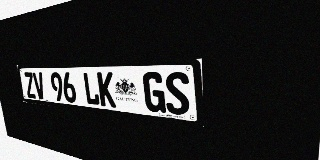6: (61, 72, 77, 103)
9: (50, 72, 65, 102)
G: (142, 72, 166, 113)
K: (97, 72, 116, 108)
L: (82, 72, 100, 106)
S: (164, 72, 190, 116)
V: (32, 72, 46, 100)
Z: (23, 72, 36, 99)
